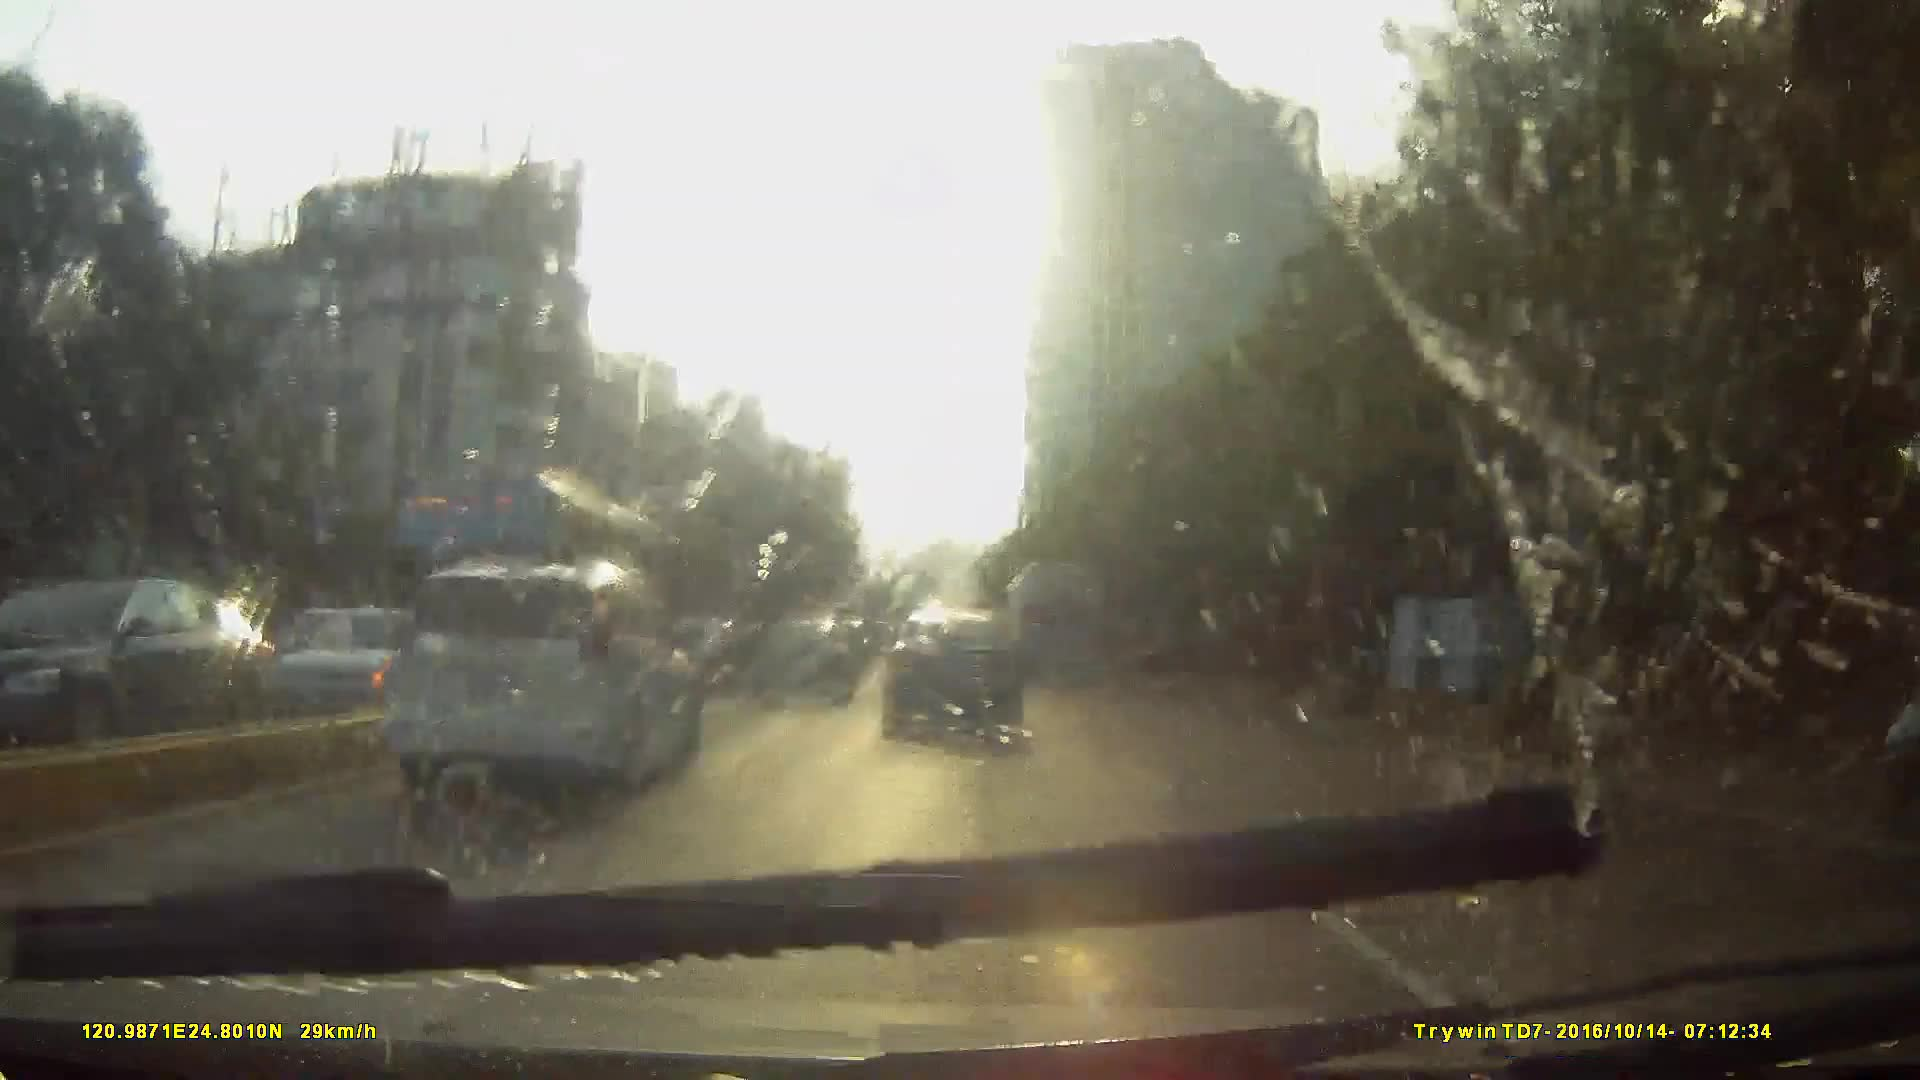vehicle: (251, 556, 684, 868), (330, 458, 690, 720), (394, 555, 703, 791), (884, 605, 1021, 750), (1001, 560, 1106, 687), (741, 618, 849, 705), (866, 638, 915, 687)
